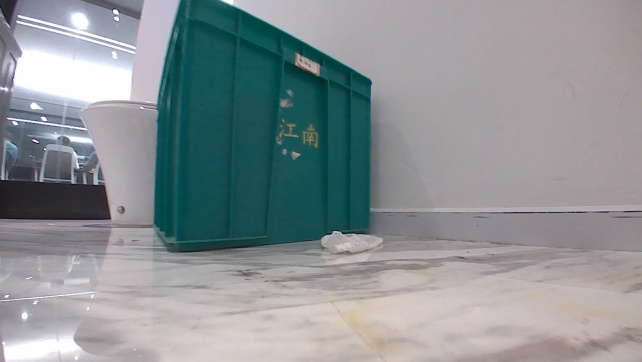socks: (318, 228, 387, 256)
toilet: (77, 97, 159, 226)
